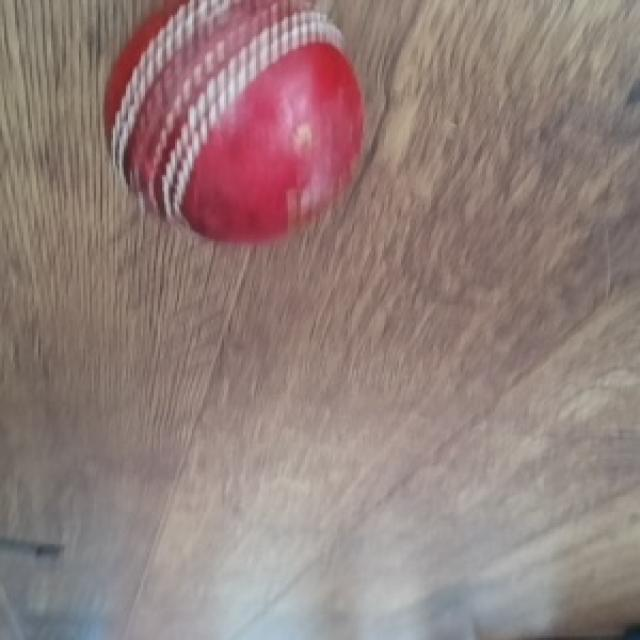ball: (102, 0, 384, 250)
